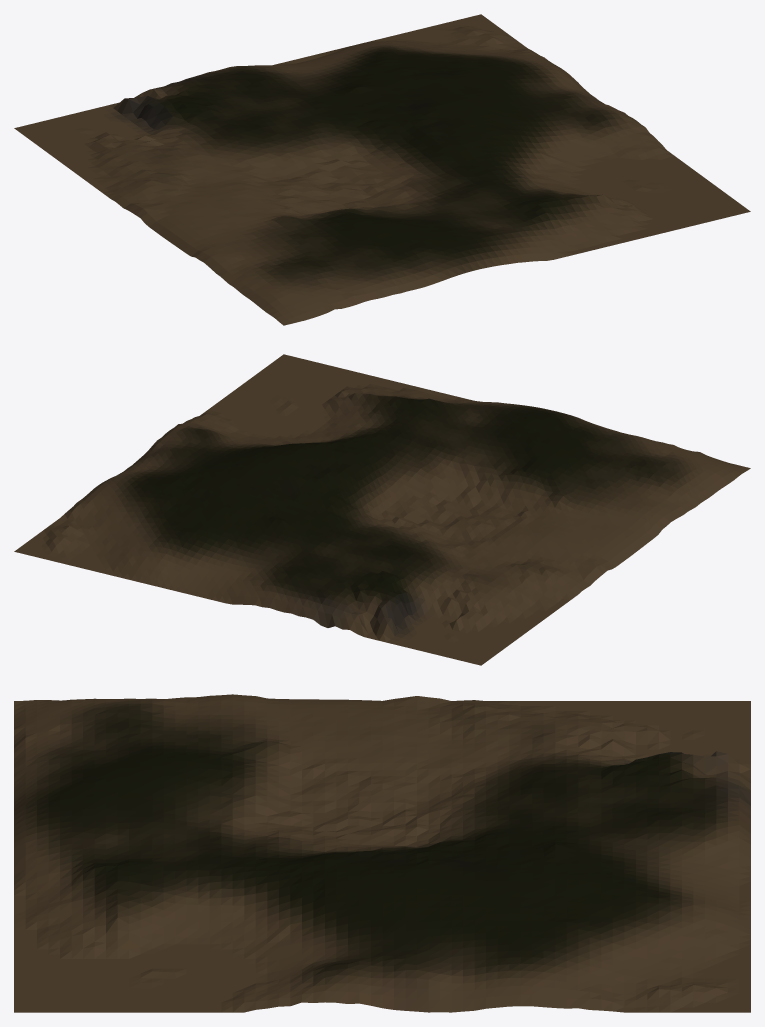
File: Mesh Terrains_LOD0_Terrain_0_0-20220725 - 183841.fbx
3 renders of one model, top to bottom at view 1: azimuth 30°, elevation 25°; view 2: azimuth 150°, elevation 25°; view 3: azimuth 270°, elevation 25°, orthographic. The views are drawn at different scales.
Visible parts, largest first — view 1: Mesh_Terrains_LOD0_Terrain_0_0_20220725___183841; view 2: Mesh_Terrains_LOD0_Terrain_0_0_20220725___183841; view 3: Mesh_Terrains_LOD0_Terrain_0_0_20220725___183841.
Part boxes in pixels (x1=…): Mesh_Terrains_LOD0_Terrain_0_0_20220725___183841: x1=14, y1=14, x2=750, y2=325; Mesh_Terrains_LOD0_Terrain_0_0_20220725___183841: x1=14, y1=354, x2=750, y2=665; Mesh_Terrains_LOD0_Terrain_0_0_20220725___183841: x1=14, y1=694, x2=750, y2=1012.
Size of the model in its own units: 25600 by 1627 by 25600.
